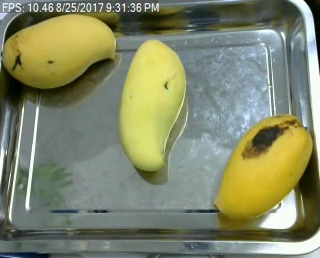Mango: (212, 115, 313, 220), (3, 13, 117, 91), (121, 39, 187, 172)
